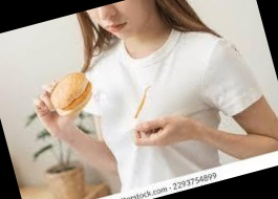mustard: (131, 95, 151, 114), (132, 110, 144, 122), (141, 85, 150, 96)
